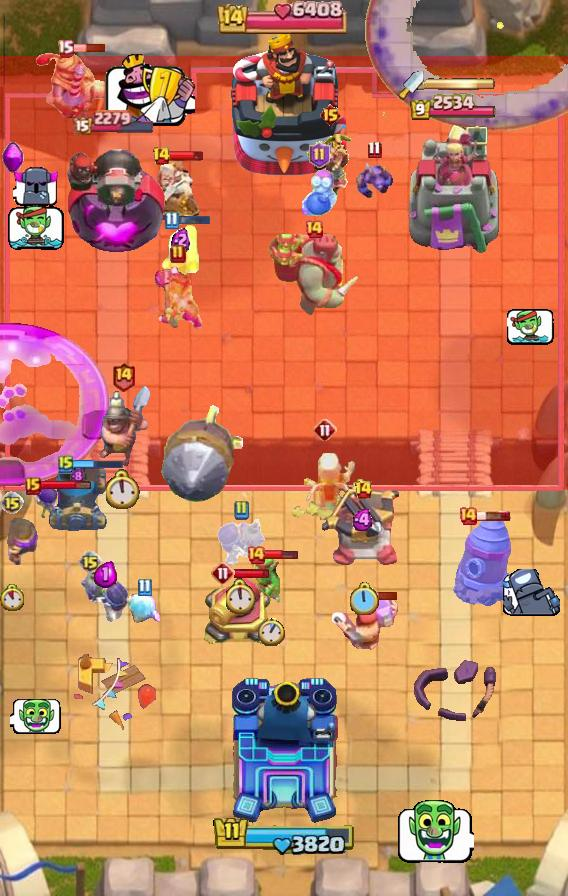bandit: (93, 383, 153, 471)
bar: (406, 122, 500, 256)
bat: (126, 590, 162, 624)
bomb-tower: (0, 508, 42, 570)
bomber-evolution: (306, 132, 354, 200)
clock: (212, 815, 356, 857), (217, 0, 351, 34)
electro-spirit: (95, 560, 118, 588), (170, 226, 189, 253), (352, 509, 375, 531), (71, 467, 85, 485)
elixir: (106, 469, 142, 509), (226, 578, 257, 614), (349, 582, 379, 618), (258, 617, 285, 646), (0, 585, 24, 612)
elixir-collector: (142, 155, 202, 225)
emote: (72, 458, 124, 470), (39, 481, 92, 492), (233, 568, 271, 580), (168, 150, 204, 162), (475, 510, 511, 522), (264, 549, 300, 561), (176, 215, 211, 226), (362, 591, 398, 601), (71, 43, 106, 53)
giant-snowball: (249, 553, 293, 603)
goblin: (32, 483, 62, 523)
goblin-ball: (78, 561, 132, 623), (215, 517, 267, 571)
ice-golem: (299, 169, 339, 217)
king-tower: (222, 31, 346, 181), (228, 676, 340, 826)
king-tower-bar: (424, 77, 496, 91)
knight-evolution: (0, 322, 110, 486)
lava-hound: (266, 233, 362, 319)
lava-pup: (322, 489, 404, 569)
magic-archer: (452, 514, 512, 608)
mighty-miner: (332, 593, 400, 655)
musketeer: (47, 467, 107, 531)
poison: (281, 446, 369, 520)
ram-rider: (36, 51, 116, 123)
rocket: (365, 0, 568, 132)
royal-delivery: (353, 161, 395, 201)
royal-recruit: (203, 575, 275, 649)
selected: (409, 94, 497, 122), (72, 109, 156, 135)
skeleton: (105, 53, 196, 126), (396, 799, 474, 864), (504, 569, 561, 618), (7, 205, 64, 251), (10, 696, 62, 735), (12, 166, 59, 208), (507, 308, 555, 347)
skeleton-king-skill: (3, 141, 26, 175)
tesla-evolution: (152, 264, 204, 332)
text: (112, 361, 137, 392), (313, 418, 337, 442), (0, 491, 24, 515), (78, 550, 102, 574), (211, 561, 235, 585), (319, 103, 342, 127), (309, 142, 330, 168), (304, 219, 324, 239), (354, 480, 374, 500), (458, 506, 478, 526), (246, 545, 266, 565), (152, 146, 171, 166), (57, 38, 75, 57), (170, 244, 186, 264), (58, 454, 74, 474), (233, 500, 249, 520), (25, 477, 41, 495), (367, 141, 382, 160), (165, 211, 179, 230), (137, 579, 151, 597)
tombstone: (159, 222, 201, 280)
tower-bar: (62, 138, 166, 256)
x-bow: (161, 404, 251, 503)
